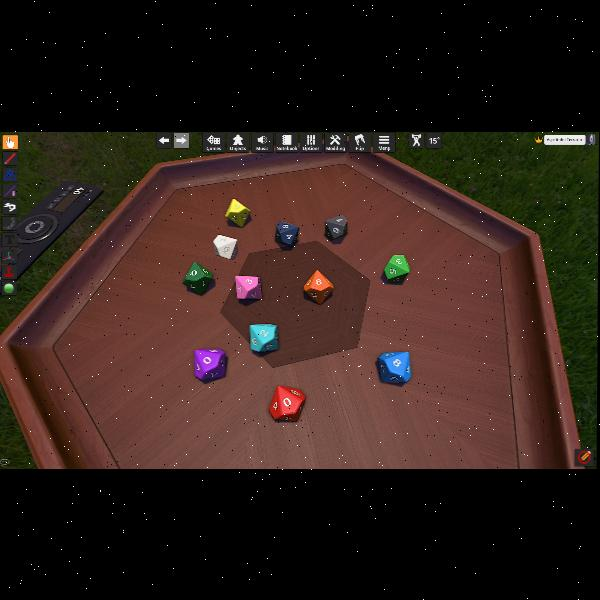d10: (269, 385, 307, 421), (303, 270, 335, 304), (378, 350, 410, 382), (194, 348, 225, 380), (183, 262, 213, 294), (248, 322, 277, 350), (384, 254, 410, 282), (225, 198, 250, 226), (236, 274, 262, 300), (274, 220, 298, 246), (324, 215, 347, 240), (213, 235, 236, 260)
